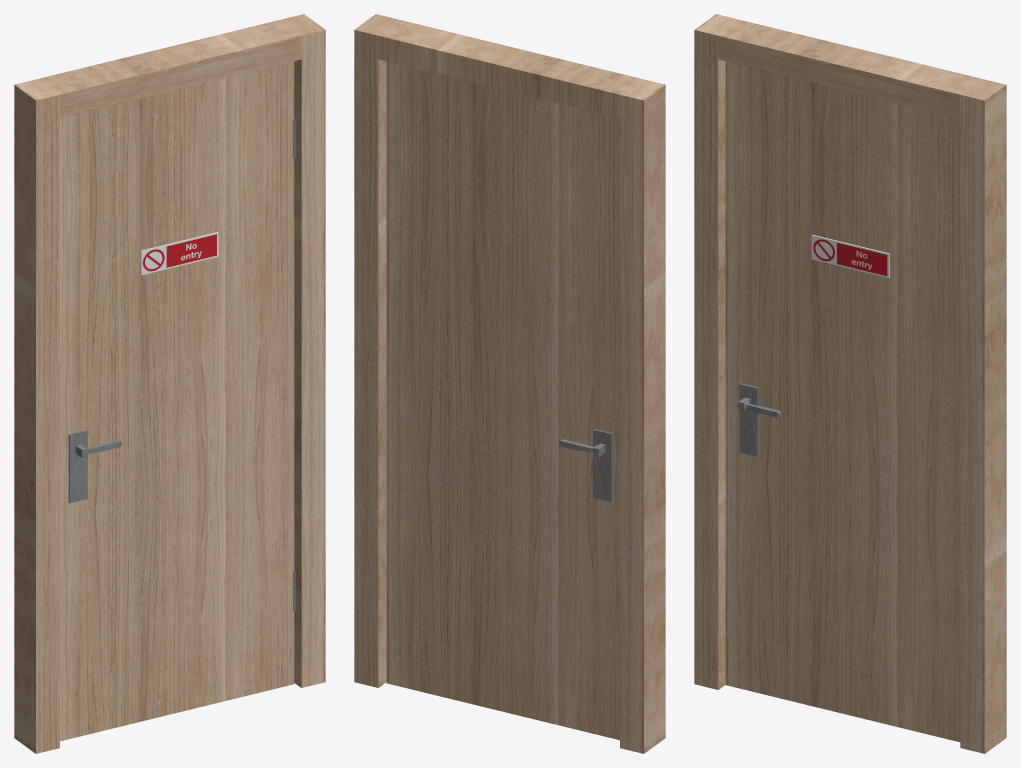
Rendered from Door.fbx.
3 renders of one model, left to right at view 1: azimuth 30°, elevation 25°; view 2: azimuth 150°, elevation 25°; view 3: azimuth 330°, elevation 25°, orthographic.
Parts seen in each view (by area): view 1: Door, door frame; view 2: Door, door frame; view 3: Door, door frame.
Part boxes in pixels (box(x1,y1,x2,y2)): Door: box(60, 61, 295, 741); door frame: box(14, 14, 325, 753); Door: box(386, 61, 619, 740); door frame: box(354, 14, 665, 753); Door: box(725, 61, 960, 742); door frame: box(694, 14, 1006, 753).
Size of the model in its own units: 96.56 by 208 by 13.27.
Materials: 4 (4 with a texture image).
